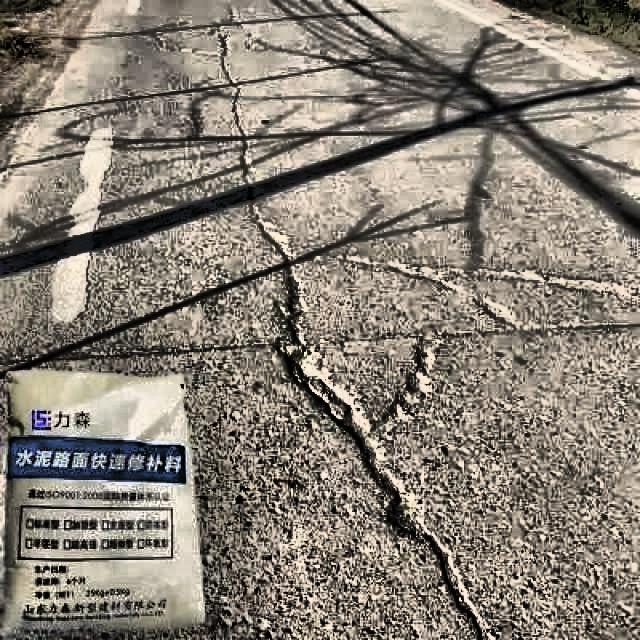buraco: (214, 57, 524, 638)
